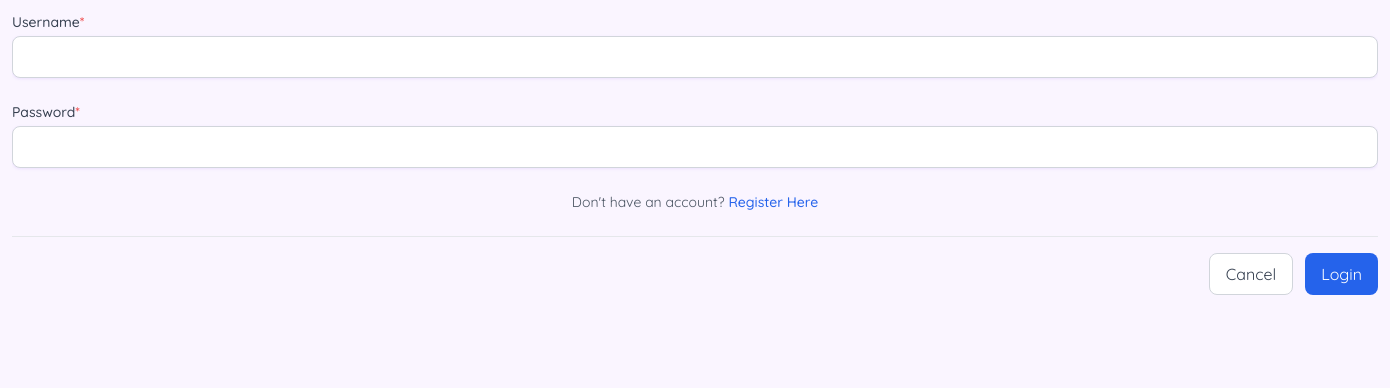
LoginForm › shows server error when login fails
The width and height of the screenshot is (1390, 388).
Type "wronguser" into the field labelled "Username*" at point(695, 57), box [12,36,1378,78]
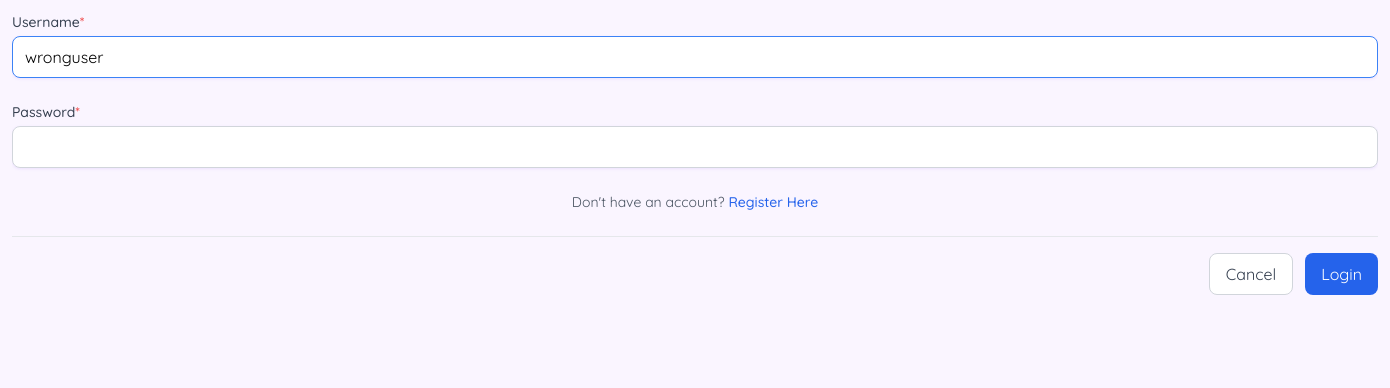
Type "wrongpass" into the password field labelled "Password*" at point(695, 147), box [12,126,1378,168]
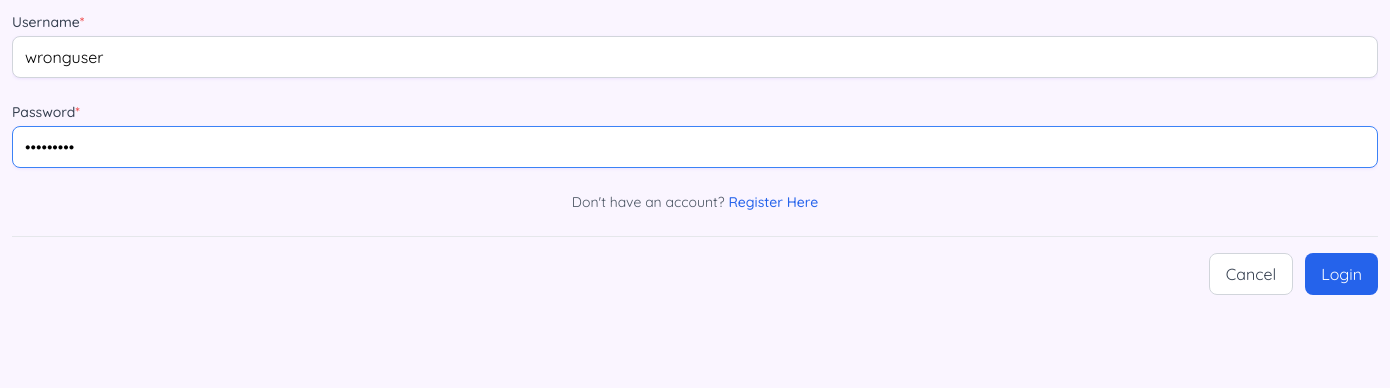
Click the button "Login" at point(1342, 274), box [1305,253,1378,295]
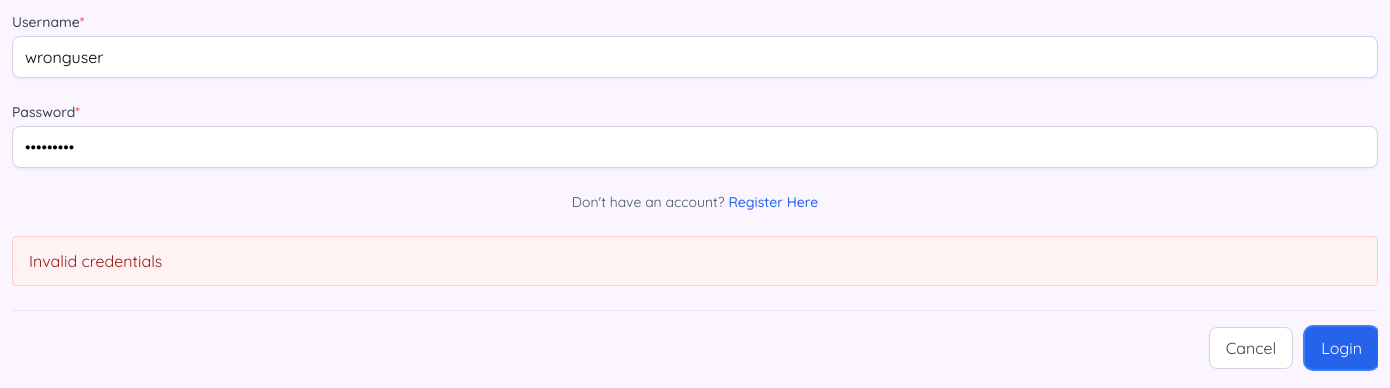
Now the text "Invalid credentials" is shown, box [12,236,1378,286]
